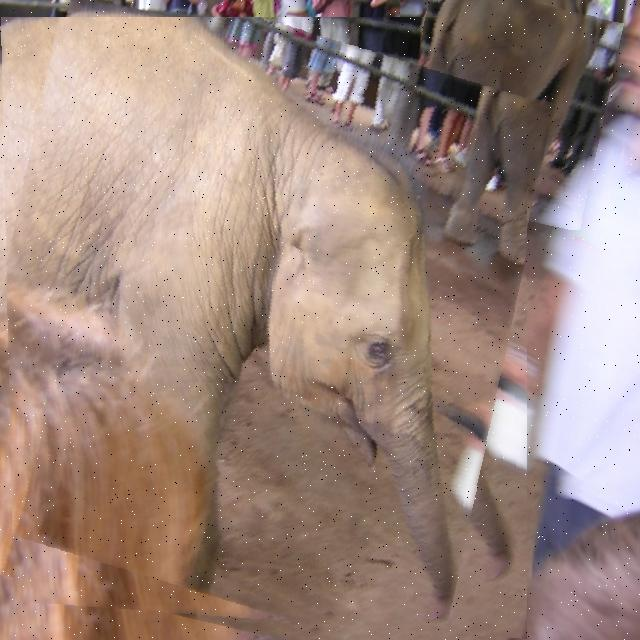elephant: (0, 17, 527, 640), (400, 0, 614, 221)
